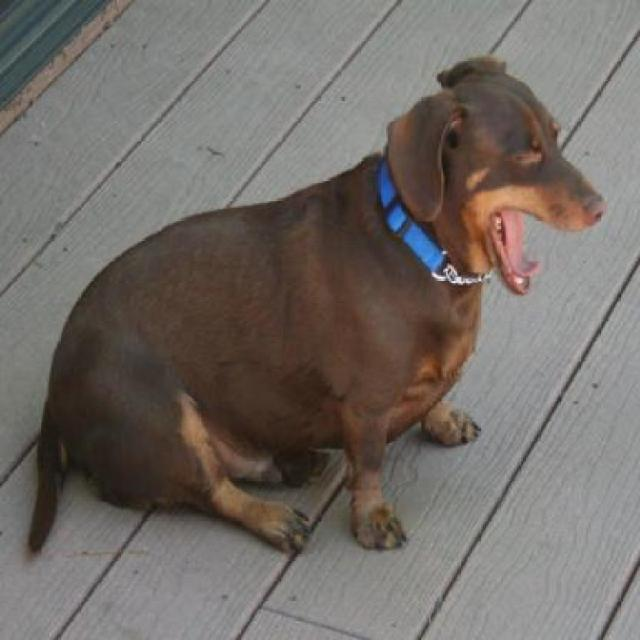Dog: (25, 52, 606, 560)
